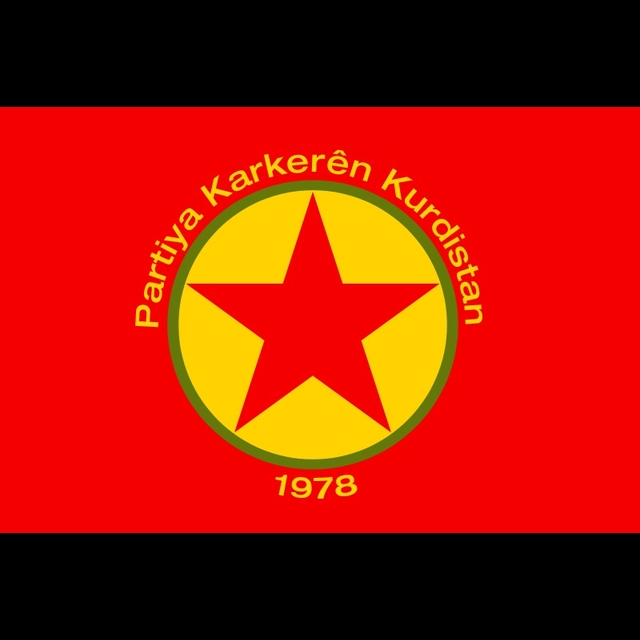PKK: (131, 144, 488, 503)
